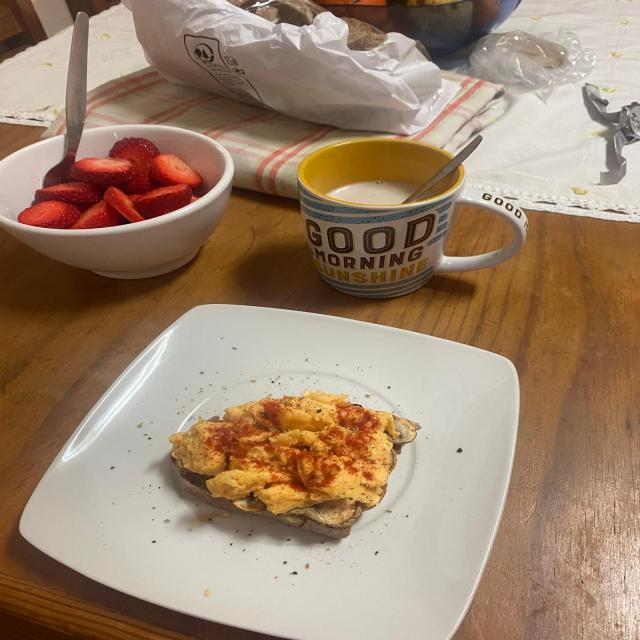bowl: (0, 125, 234, 278)
bread: (172, 459, 375, 539)
coffee: (326, 180, 414, 205)
coffee cup: (297, 139, 527, 298)
fork: (45, 12, 89, 179)
plate: (19, 304, 519, 640)
scrambled eggs: (170, 390, 419, 514)
spoon: (402, 134, 482, 204)
strawberry: (18, 137, 203, 229)
